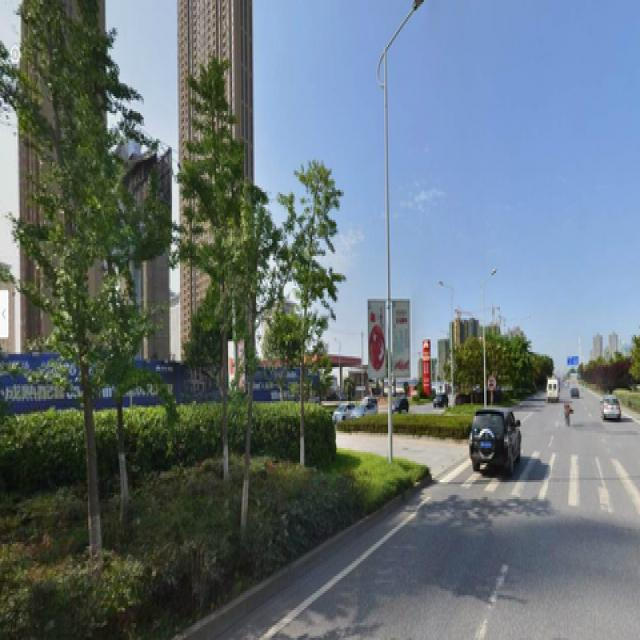gink: (30, 38, 121, 512), (187, 100, 253, 463), (280, 171, 332, 448)
